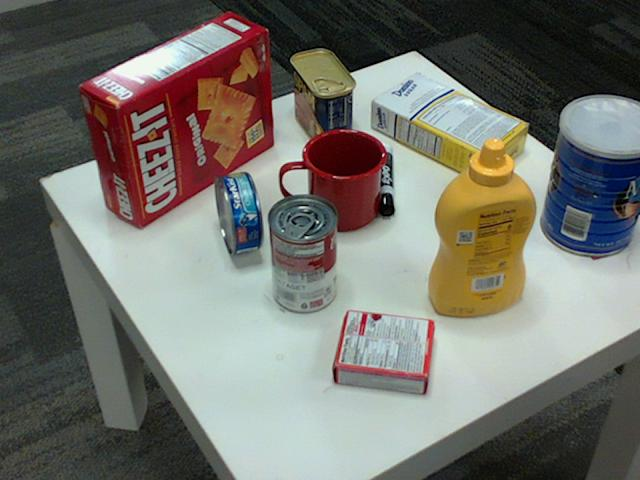cracker_box: (79, 9, 273, 225)
gelatin_box: (332, 310, 433, 396)
large_marker: (377, 146, 394, 215)
master_chef_can: (540, 95, 639, 256)
mug: (281, 126, 387, 229)
mustard_bottle: (427, 138, 537, 315)
potted_meat_can: (288, 49, 354, 148)
sugar_box: (371, 72, 531, 183)
tomato_soup_can: (268, 194, 338, 313)
tuna_fish_can: (214, 171, 263, 255)
